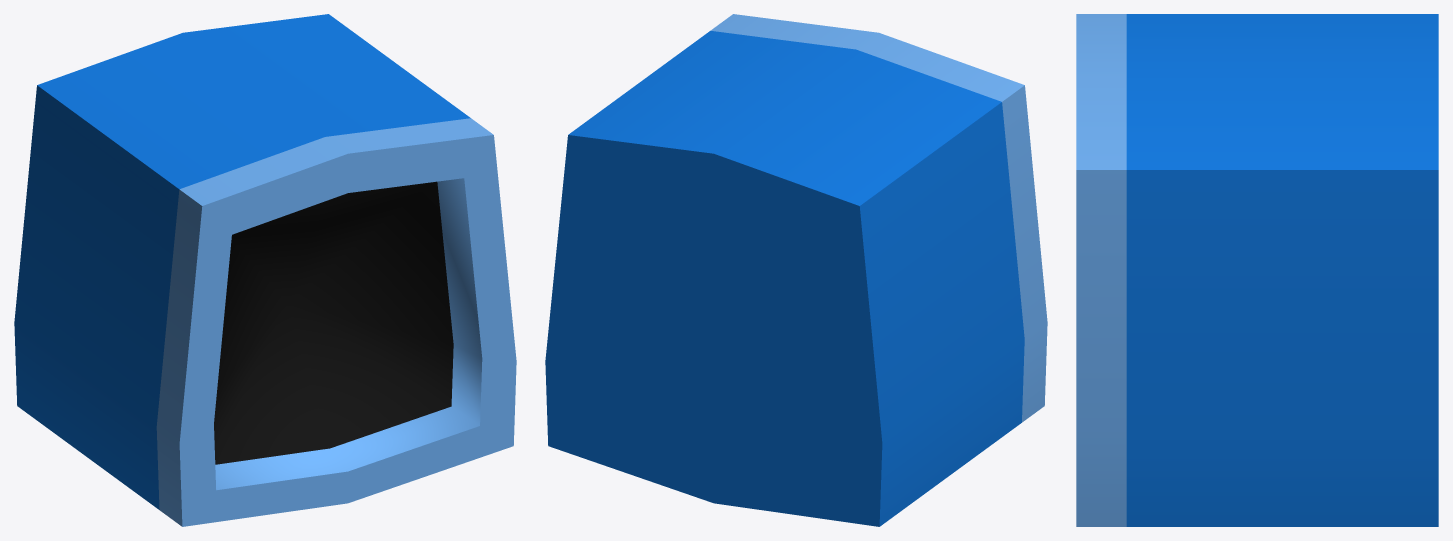
Rendered from Hood 01.FBX.
3 renders of one model, left to right at view 1: azimuth 30°, elevation 25°; view 2: azimuth 150°, elevation 25°; view 3: azimuth 270°, elevation 25°, orthographic. The views are drawn at different scales.
Parts seen in each view (by area): view 1: Hood 01; view 2: Hood 01; view 3: Hood 01.
Part boxes in pixels (x1=…): Hood 01: x1=14, y1=14, x2=516, y2=526; Hood 01: x1=545, y1=14, x2=1047, y2=526; Hood 01: x1=1076, y1=14, x2=1438, y2=526.
Size of the model in its own units: 68.13 by 67.54 by 57.86.
1 material, 1 textured.
